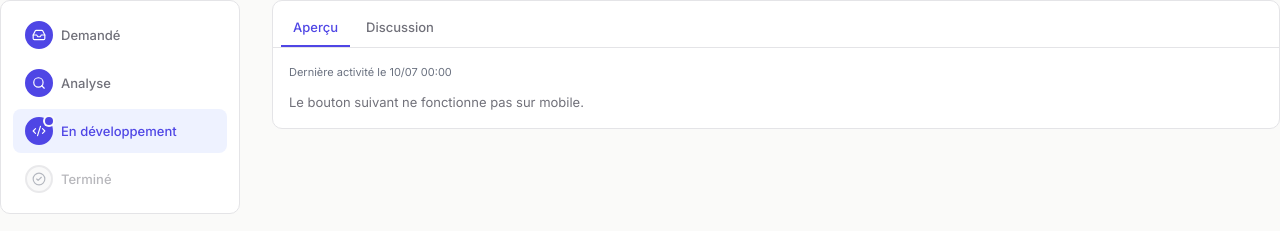
Test: IssueTimeline › switches which step-specific details show when a different step is selected
The width and height of the screenshot is (1280, 231).
expect the text "Créée le" is not shown: met
Click the button with test id "issue-step-requested".
click(120, 35)  # box left=13, top=13, right=227, bottom=57
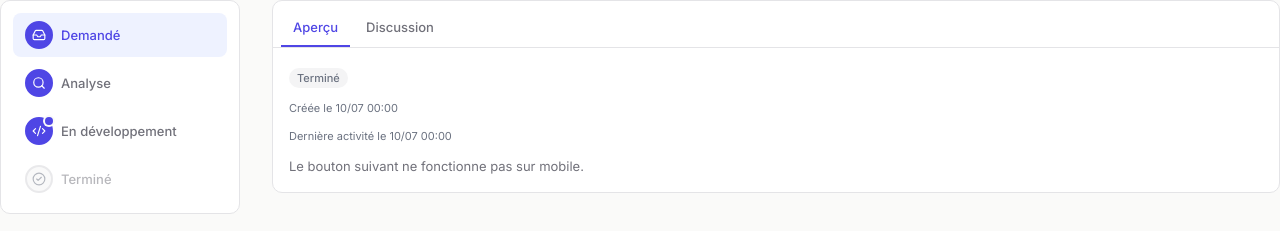
expect the text "Créée le 10/07 00:00" is shown: met, box left=289, top=101, right=398, bottom=115
expect the text with test id "step-done-badge" is shown: met, box left=289, top=68, right=348, bottom=88
